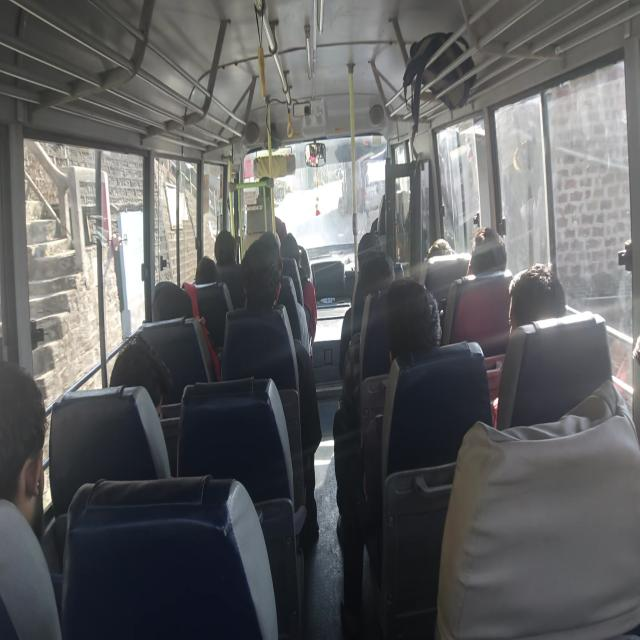person: (3, 348, 64, 583), (382, 277, 448, 368), (108, 333, 177, 403), (508, 257, 571, 329), (467, 223, 513, 283), (151, 277, 202, 330), (241, 240, 280, 308), (356, 252, 405, 293), (422, 230, 462, 270), (351, 230, 394, 258), (279, 228, 307, 266), (260, 227, 285, 263), (212, 230, 240, 262), (254, 170, 280, 202), (195, 253, 218, 289), (383, 170, 408, 202)
